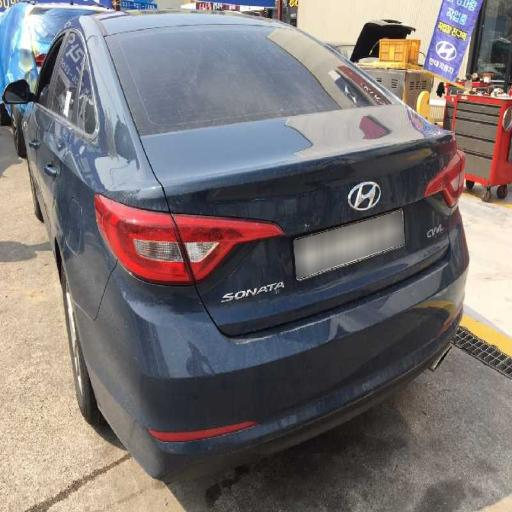dent: (141, 144, 393, 333)
